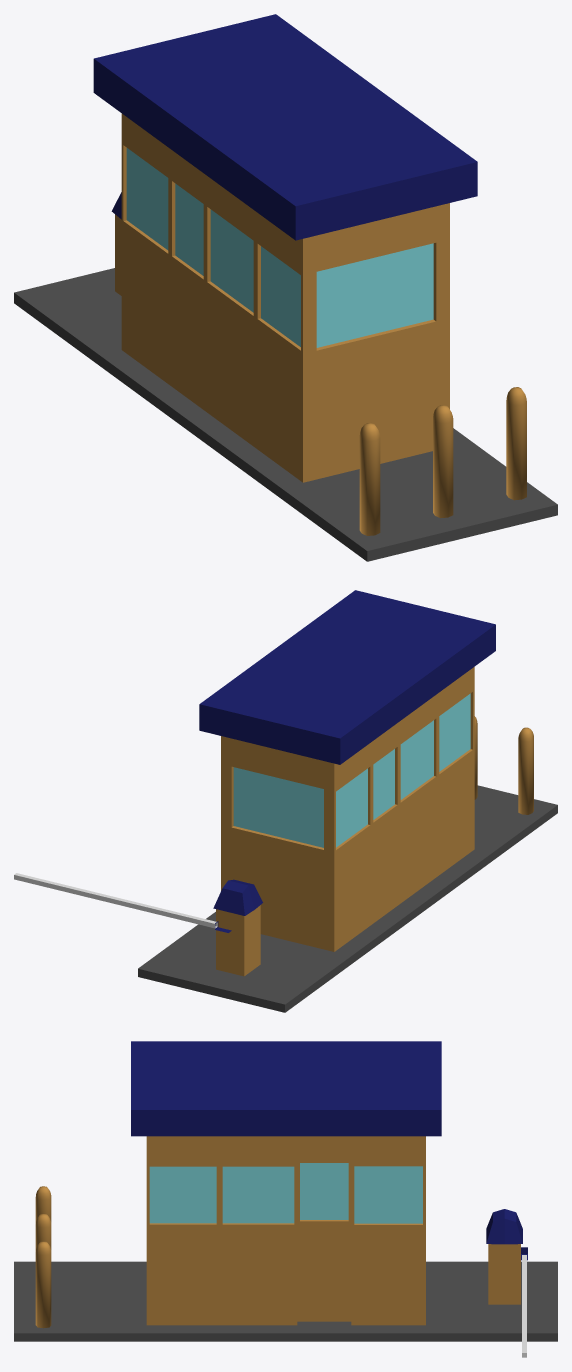
Rendered from toll gate.fbx.
The picture shows the model from 3 angles, top to bottom: view 1: azimuth 30°, elevation 25°; view 2: azimuth 150°, elevation 25°; view 3: azimuth 270°, elevation 25°; orthographic projection. The views are drawn at different scales.
Parts seen in each view (by area): view 1: toll booth, base, cement guard2, cement guard1, cement guard3, gate holder; view 2: toll booth, base, gate holder, gate arm, cement guard2; view 3: toll booth, base, gate holder, cement guard1, gate arm, cement guard2, cement guard3.
Part boxes in pixels (x1,y1,x2,y2): toll booth: (93,14,477,482); base: (14,268,557,561); cement guard2: (359,423,380,535); cement guard1: (506,387,526,500); cement guard3: (433,405,453,518); gate holder: (111,192,121,295); toll booth: (199,590,495,951); base: (138,785,557,1012); gate holder: (213,879,262,976); gate arm: (14,873,231,932); cement guard2: (518,727,533,814); toll booth: (131,1041,441,1325); base: (14,1261,557,1341); gate holder: (486,1209,522,1304); cement guard1: (35,1241,51,1328); gate arm: (521,1247,527,1357); cement guard2: (35,1186,51,1223); cement guard3: (35,1214,51,1251).
Bounding box in the file's own units: 616 × 474 × 1015.
